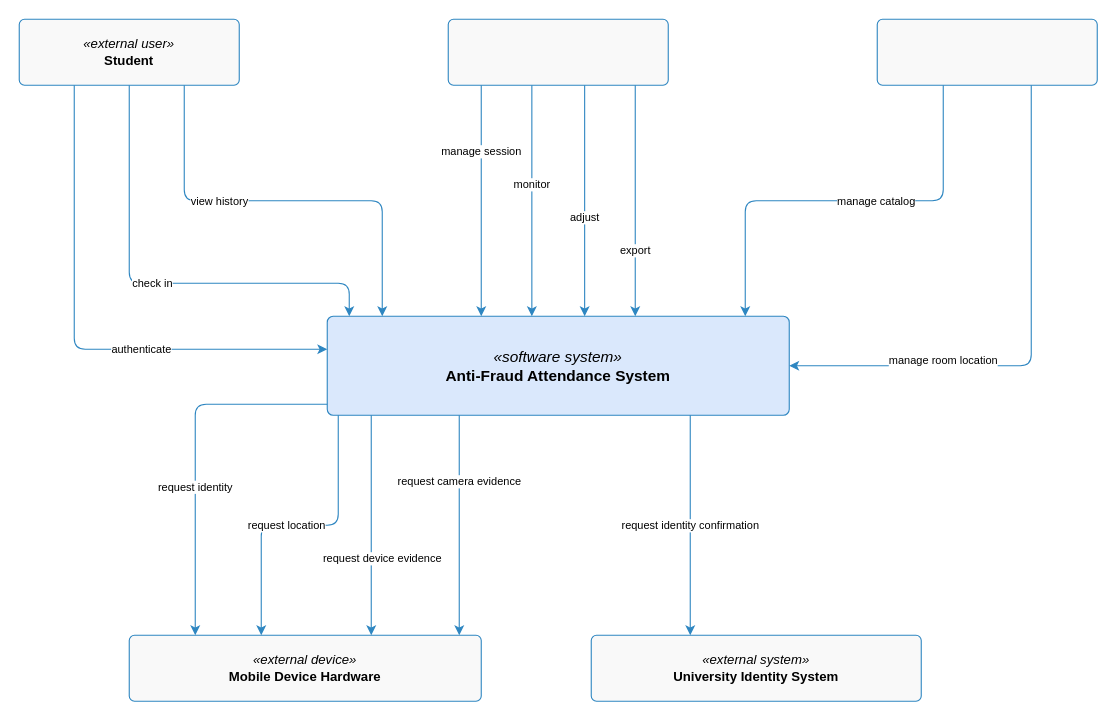
This 1117x721 diagram has some shape labels left out. The shapes that lost their labels are listed below. From the top down, each one's centre as x and y in pixels, then its label:
At pixel 557 51: "«external user» Lecturer".
At pixel 986 51: "«external user» Admin".
